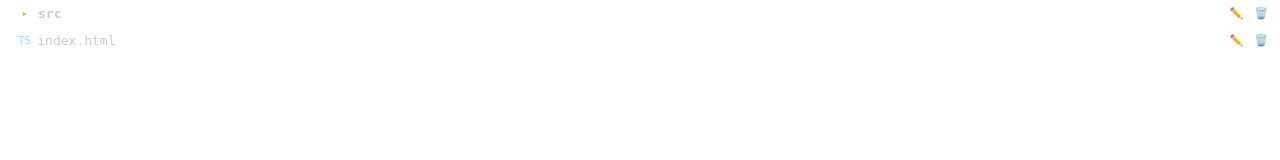
Test: FileList component › renders nested folders and expands/collapses on click
Check: the text "src" is shown, box [38,6,62,21]
Check: the text "index.html" is shown, box [37,33,116,48]
# Click folder to expand
Click the list item with test id "file-item-src". click: (25,14)
box: [0,0,1279,27]
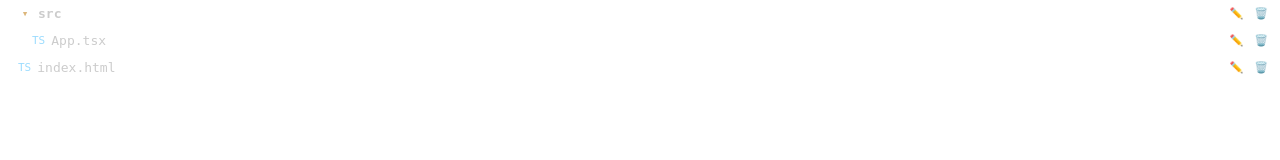
Check: the text "App.tsx" is shown, box [51,33,106,48]
# Click again to collapse
Click the list item with test id "file-item-src". click: (25,14)
box: [0,0,1279,27]
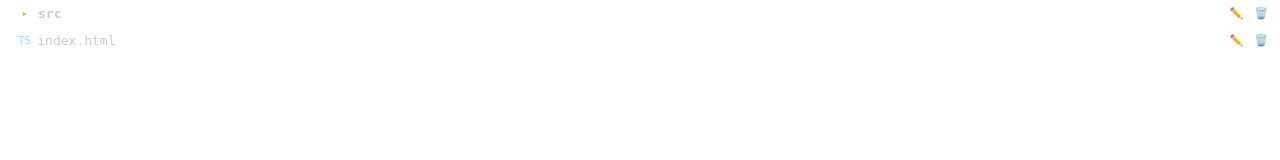
Check: the text "App.tsx" is gone
